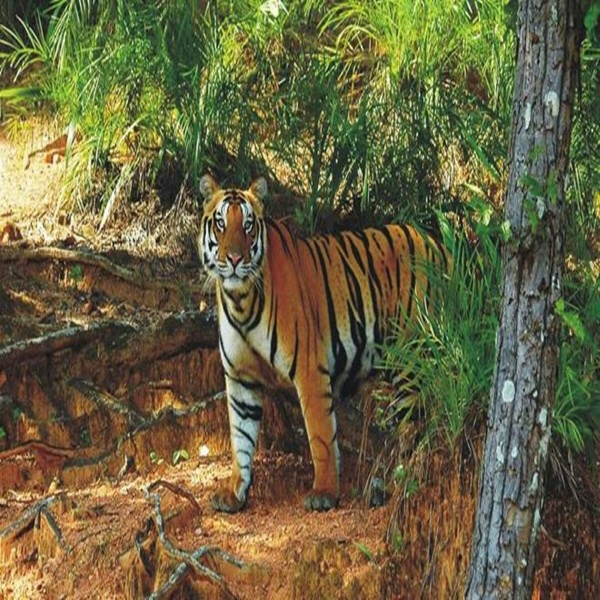Tiger: (193, 170, 465, 516)
